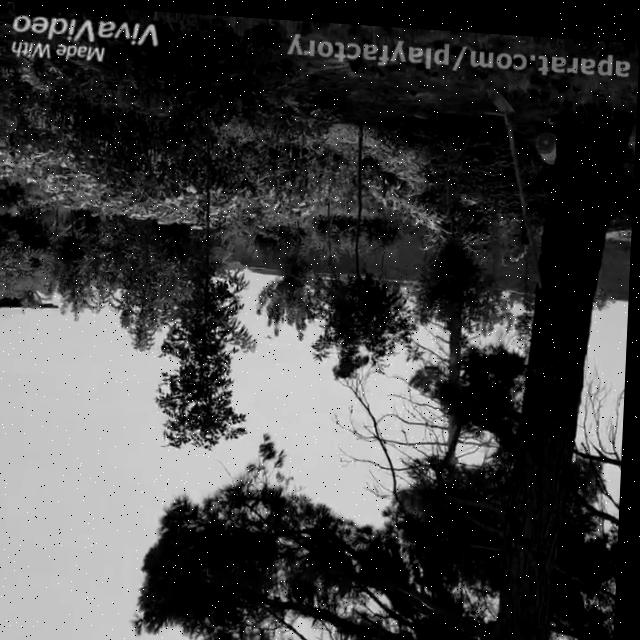drone: (265, 329, 277, 340)
